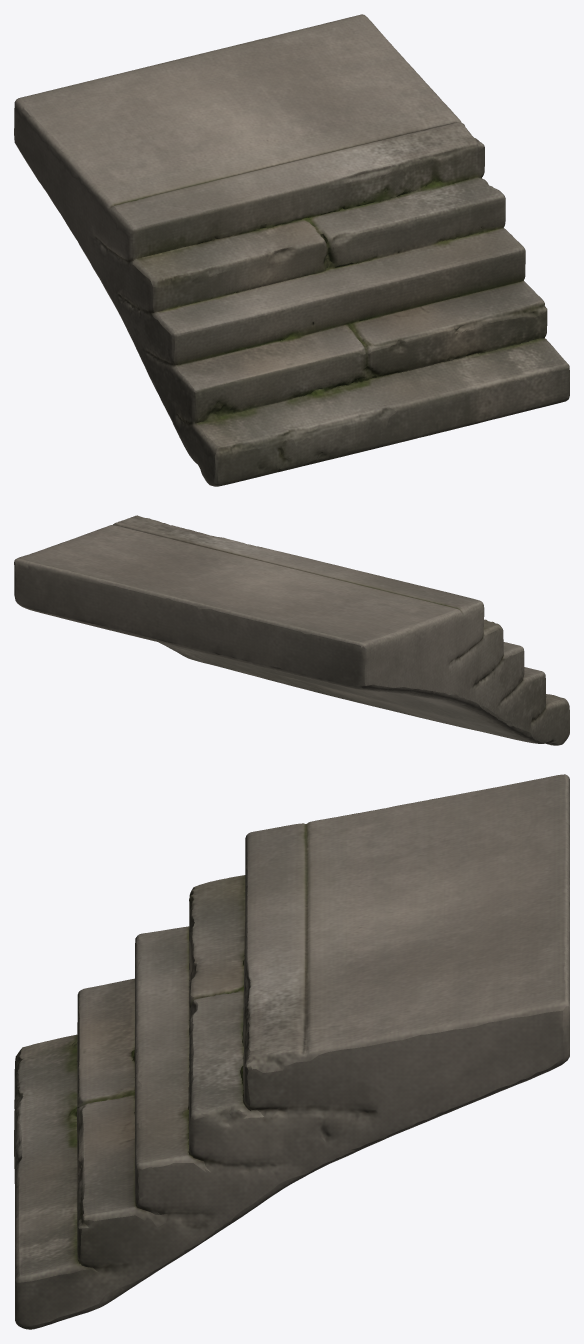
Rendered from ARCH-011.glb.
3 renders of one model, top to bottom at view 1: azimuth 30°, elevation 25°; view 2: azimuth 150°, elevation 25°; view 3: azimuth 270°, elevation 25°, orthographic. The views are drawn at different scales.
Parts seen in each view (by area): view 1: world; view 2: world; view 3: world.
Boxes of the visible parts, x1,y1,x2,y2 form: world: (14,14,569,486); world: (14,515,569,745); world: (14,774,569,1329).
Bounding box in the file's own units: 1.2 × 0.7894 × 1.2.
1 material, 1 textured.
